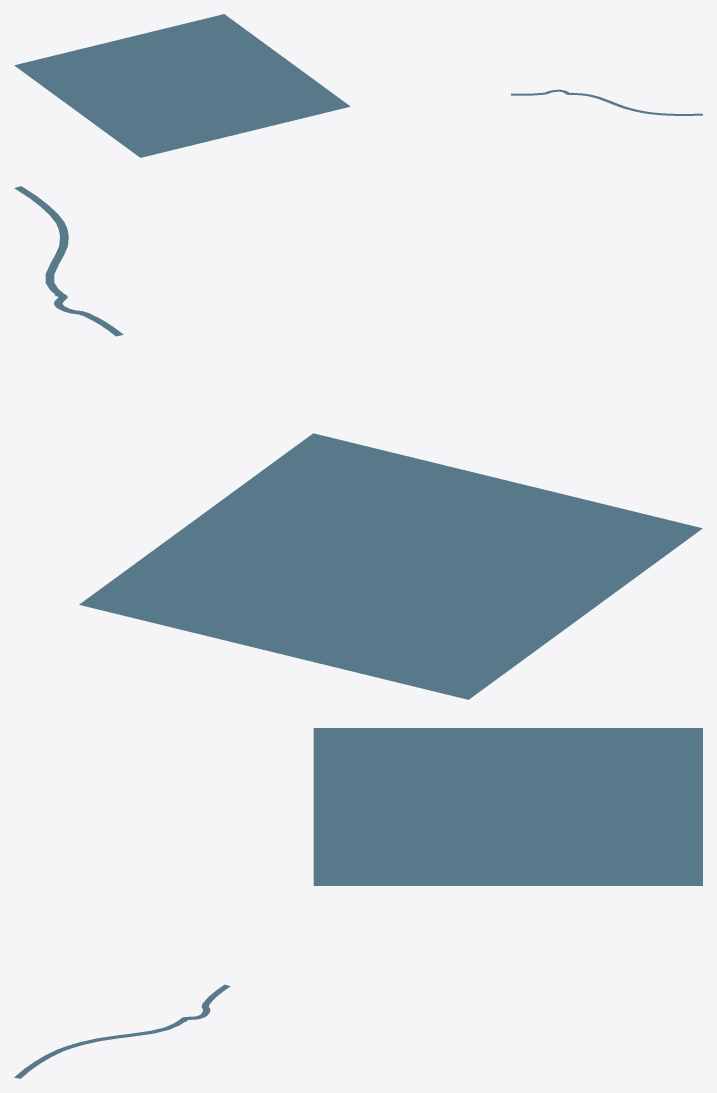
The model's file is tile_8_-37.gltf.
3 renders of one model, top to bottom at view 1: azimuth 30°, elevation 25°; view 2: azimuth 150°, elevation 25°; view 3: azimuth 270°, elevation 25°, orthographic. The views are drawn at different scales.
Parts seen in each view (by area): view 1: Water; view 2: Water; view 3: Water.
Part boxes in pixels (x1,y1,x2,y2): Water: (14, 14, 702, 157); Water: (14, 186, 702, 699); Water: (14, 728, 702, 1078).
Size of the model in its own units: 568 by 0.03 by 472.
